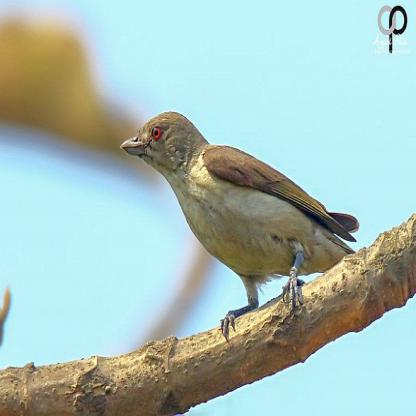Burung: (120, 114, 362, 329)
